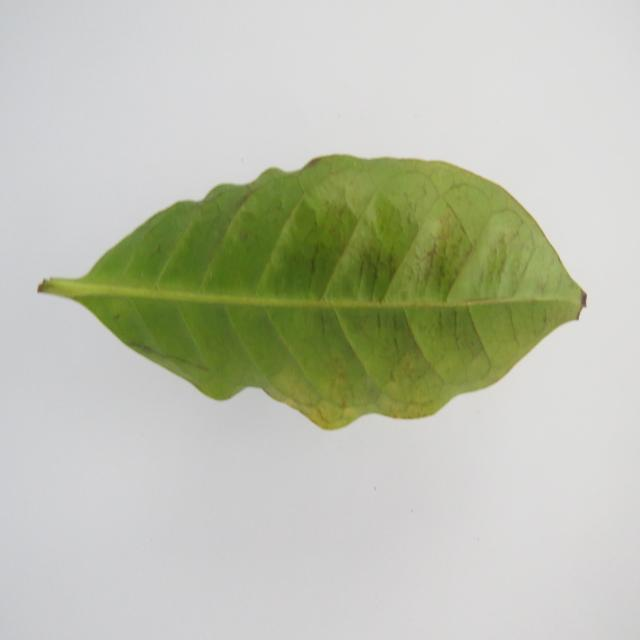DeficienciaNutricional-Calcio: (39, 155, 585, 428)
